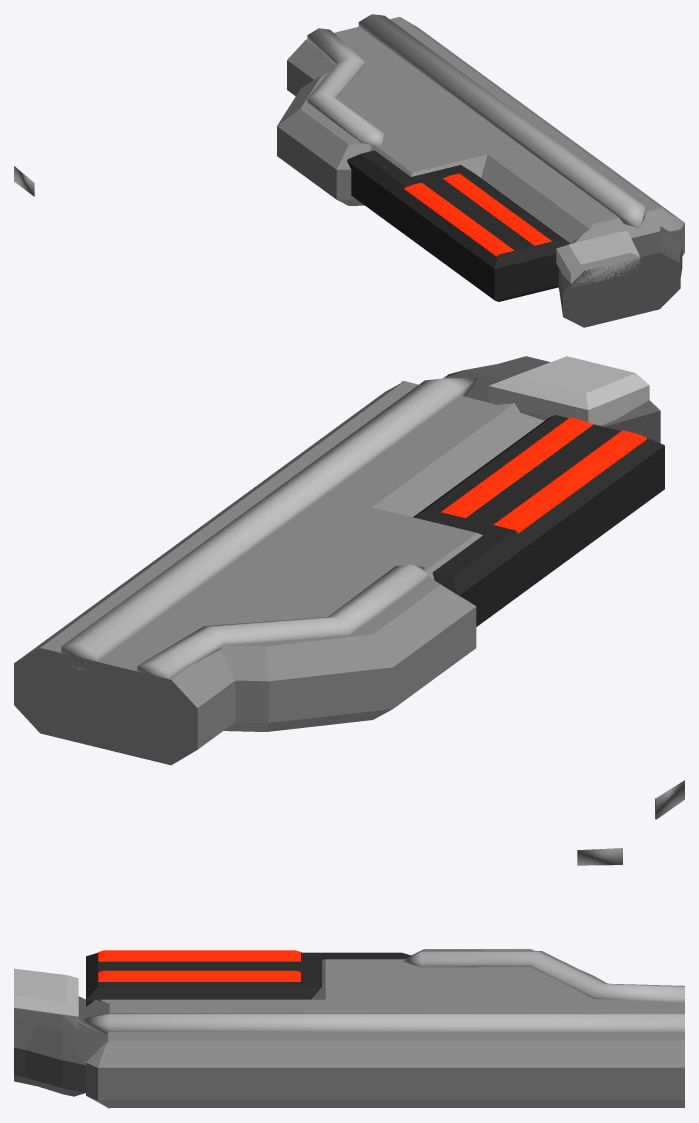
Rendered from newshk-205.glb.
3 renders of one model, top to bottom at view 1: azimuth 30°, elevation 25°; view 2: azimuth 150°, elevation 25°; view 3: azimuth 270°, elevation 25°, orthographic. The views are drawn at different scales.
Visible parts, largest first — view 1: newshk-205; view 2: newshk-205; view 3: newshk-205.
Part boxes in pixels (x1=…): newshk-205: x1=14, y1=14, x2=684, y2=327; newshk-205: x1=14, y1=356, x2=684, y2=819; newshk-205: x1=14, y1=848, x2=684, y2=1108.
Size of the model in its own units: 1.92 by 0.3 by 2.33.
